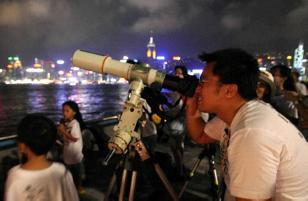person: (182, 47, 307, 199)
